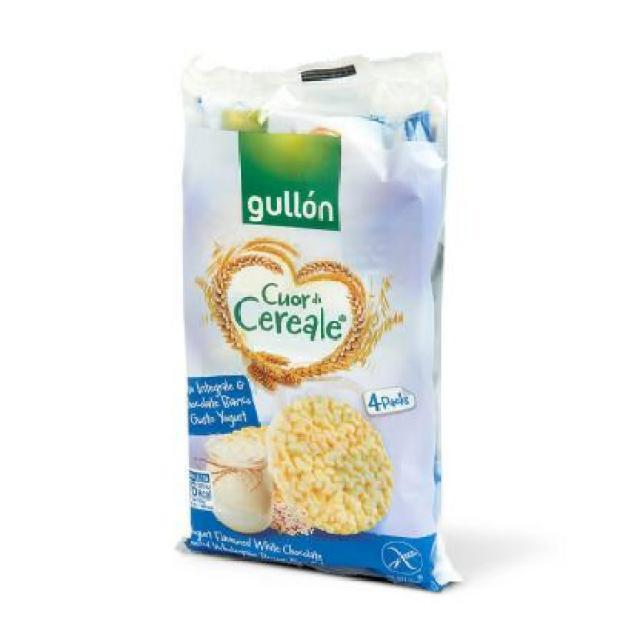Gallette di riso: (172, 52, 460, 591)
